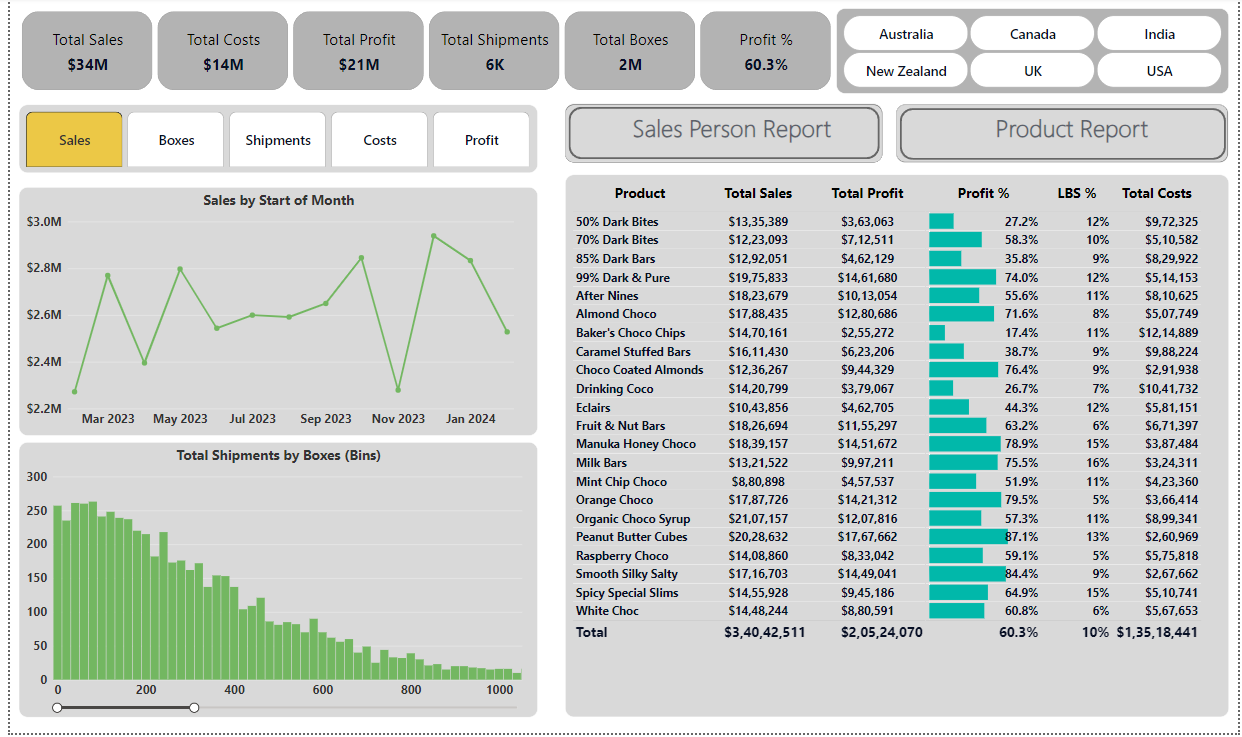

What the dashboard file says about the page in this screenshot:
{"tool":"powerbi","page":{"name":"Sales Report","canvas":[1920,1150],"ordinal":0},"visuals":[{"type":"cardVisual","fields":{"Data":["_Measures.Total Sales","_Measures.Total Costs","_Measures.Total Profit","_Measures.Total Shipments","_Measures.Total Boxes","_Measures.Profit %"]},"box":[14.4,18.5,1276.2,133.8],"z":0},{"type":"advancedSlicerVisual","fields":{"Values":["Measure Selector.Measure Selector"]},"box":[14.4,168.8,811,107],"z":1000},{"type":"lineChart","fields":{"Y":["_Measures.Total Sales"],"Category":["calendar.Start of Month"]},"box":[14.4,296.4,811,389],"z":2000},{"type":"advancedSlicerVisual","fields":{"Values":["locations.Geo"]},"box":[1290.6,18.5,613.4,133.8],"z":3000},{"type":"clusteredColumnChart","title":"Total Shipments by Boxes (Bins)","fields":{"Category":["shipments.Boxes (bins)"],"Y":["_Measures.Total Shipments"]},"box":[14.4,695.7,811,430.2],"z":4000},{"type":"tableEx","title":"product table","fields":{"Values":["products.Product","_Measures.Total Sales","_Measures.Total Profit","_Measures.Profit %","_Measures.LBS %","_Measures.Total Costs"]},"box":[866.6,277.9,1037.4,848],"z":6000},{"type":"textbox","title":"Sales","box":[866.6,168.8,496.1,90.6],"z":7000},{"type":"textbox","title":"product","box":[1385.3,168.8,518.7,90.6],"z":8000},{"type":"actionButton","title":"sales person","box":[867.2,166,496.1,91.8],"z":9000},{"type":"actionButton","title":"product wise","box":[1384.4,168.8,519.5,90.9],"z":10000}]}

Visuals, with their boxes in screenshot pixels (x1, y1, x2, y2), scaled from the page's 1920x1150 canvas onto the 1242x737 screenshot:
cardVisual - _Measures.Total Sales x _Measures.Total Costs: [9, 12, 835, 98]
advancedSlicerVisual - Measure Selector.Measure Selector: [9, 108, 534, 177]
lineChart - _Measures.Total Sales x calendar.Start of Month: [9, 190, 534, 439]
advancedSlicerVisual - locations.Geo: [835, 12, 1232, 98]
"Total Shipments by Boxes (Bins)" clusteredColumnChart: [9, 446, 534, 722]
"product table" tableEx: [561, 178, 1232, 722]
"Sales" textbox: [561, 108, 881, 166]
"product" textbox: [896, 108, 1232, 166]
"sales person" actionButton: [561, 106, 882, 165]
"product wise" actionButton: [896, 108, 1232, 166]
